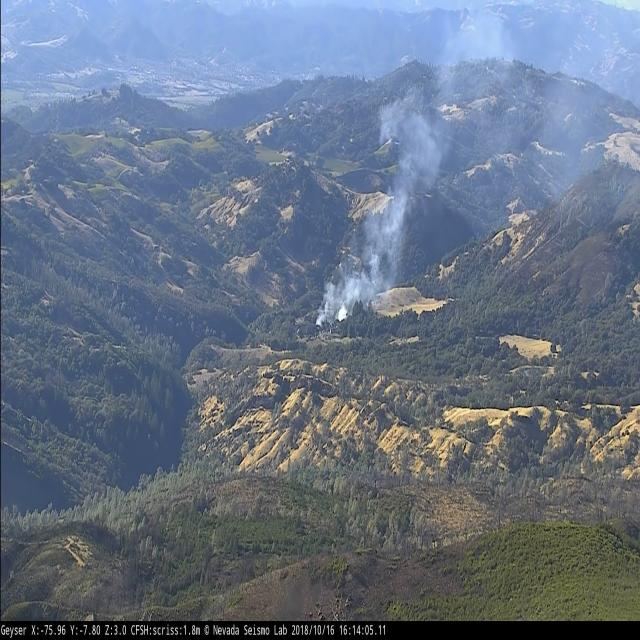smoke: (316, 102, 442, 329)
